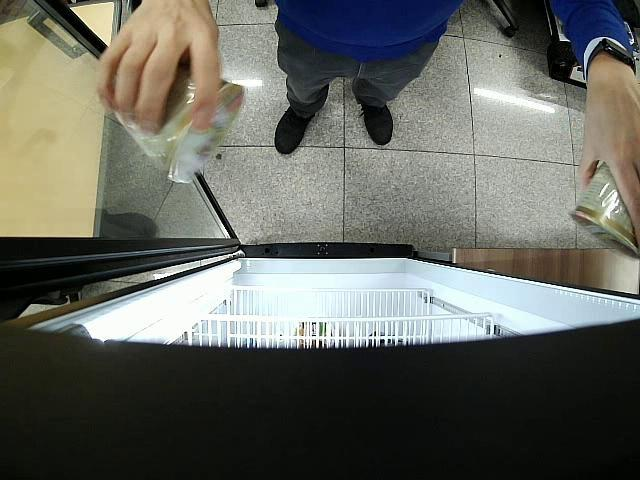04_chapagetti_S: (124, 66, 243, 184), (567, 163, 640, 260)
